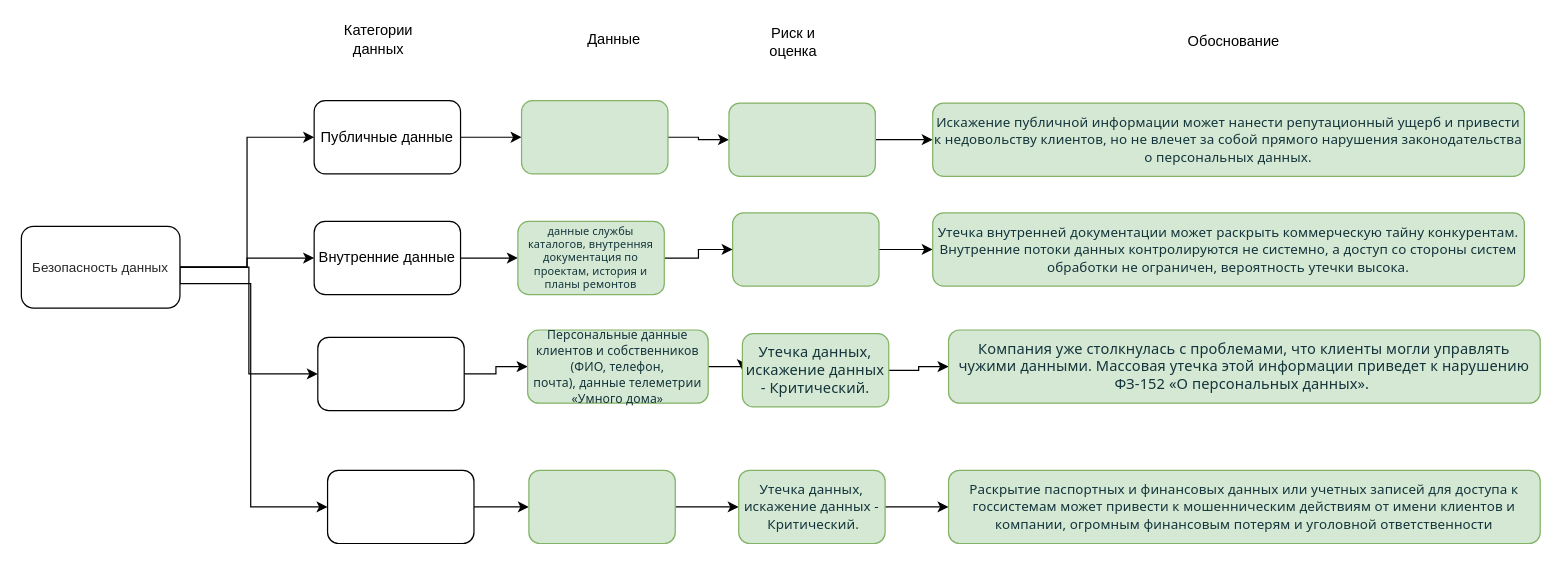
Some shapes in this 1562 by 565 pixel diagram are drawn without their labels. The shapes that lost their labels are listed below. From the top down, each one's centre as x and y in pixels, then its label:
point 594,136: Информация из онлайн-витрины
point 801,139: Искажение данных - Незначительный .
point 805,249: Утечка данных - Значительный .
point 390,373: Конфидециальные данные
point 400,506: Секретные данные
point 601,506: учетные данные для интеграций с госорганами, данные о транзакциях и платежах
